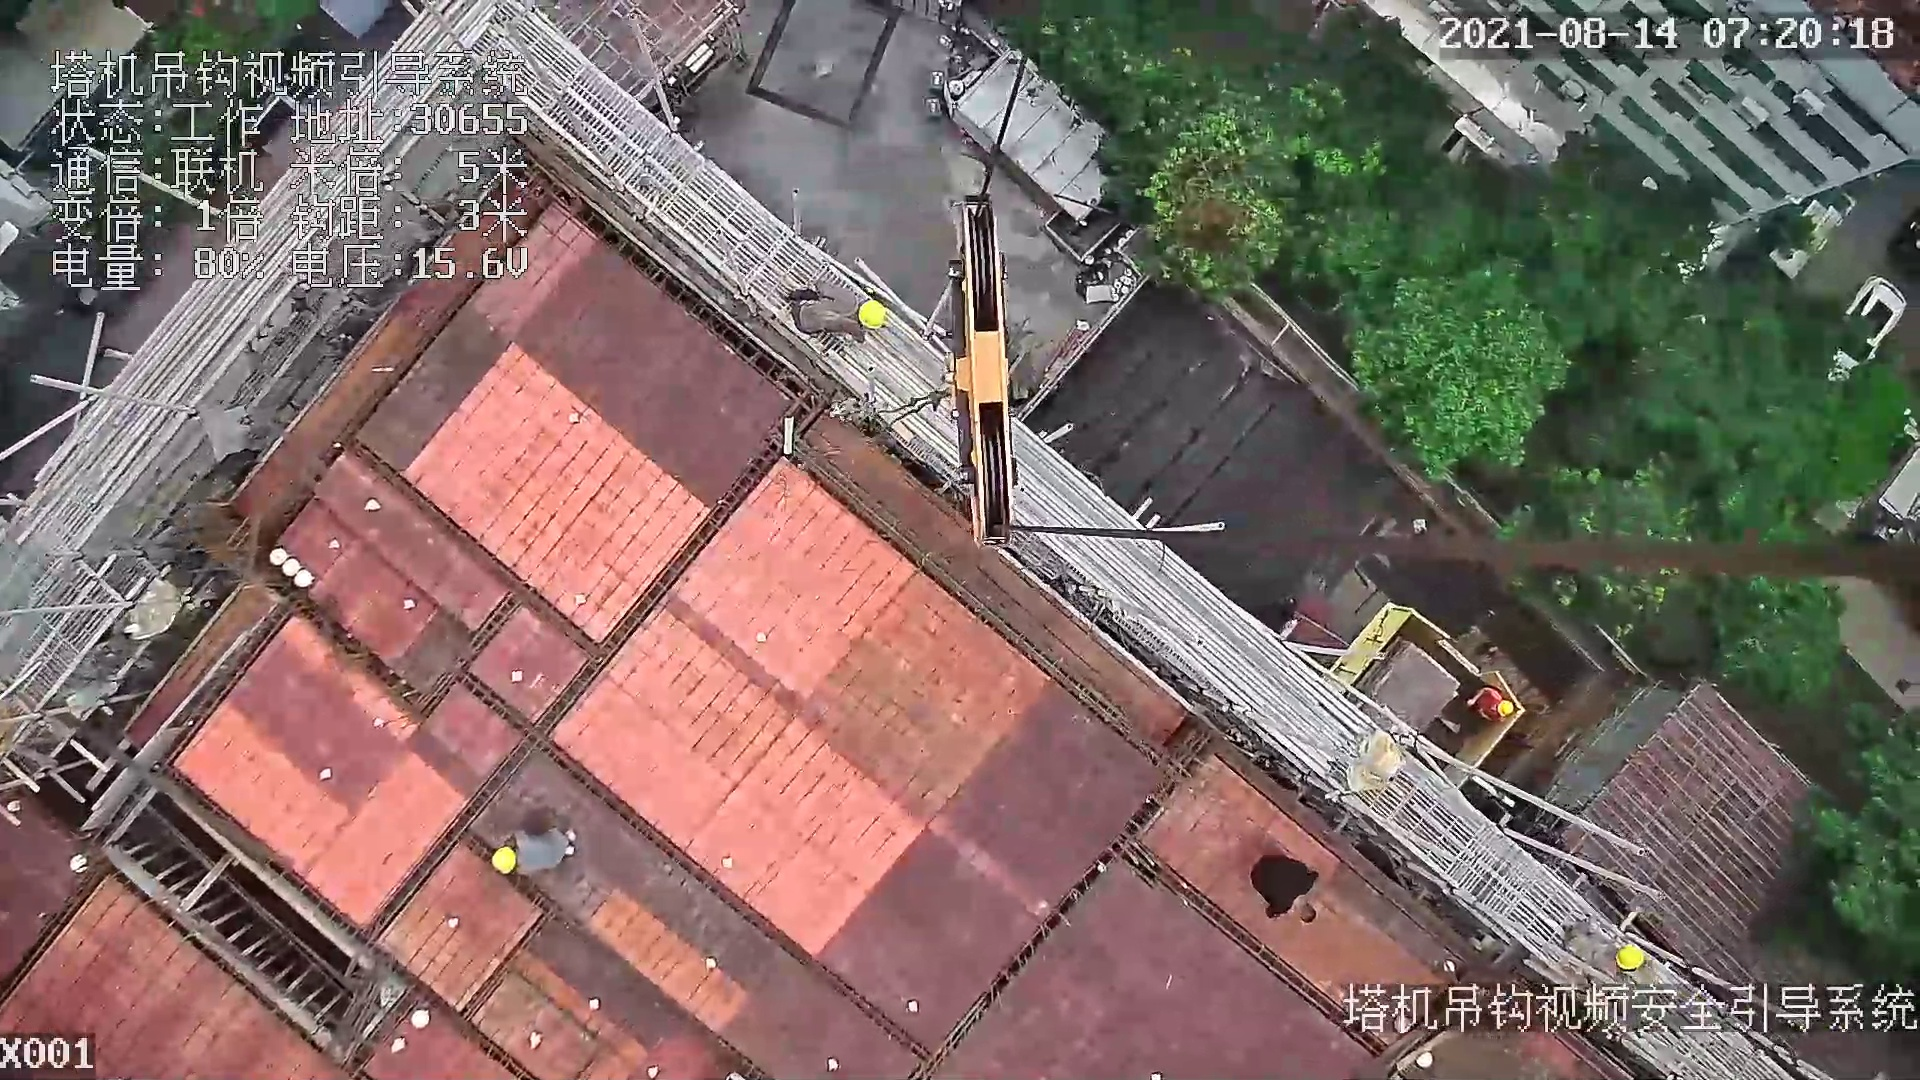helmet: (484, 842, 522, 872), (1615, 942, 1646, 972), (1497, 699, 1513, 720)
hook: (946, 192, 1037, 551)
person: (1236, 842, 1319, 928), (486, 828, 582, 877), (1459, 677, 1517, 728)
